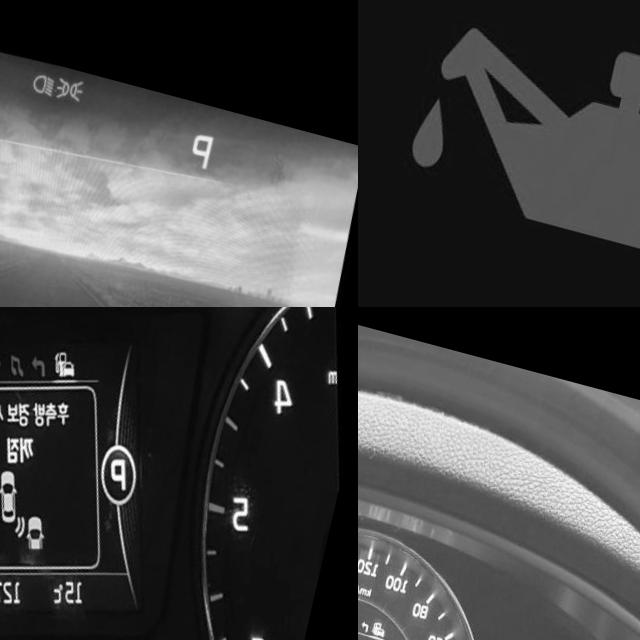Low beam: (33, 53, 59, 81)
SideLamp: (57, 54, 88, 86)
